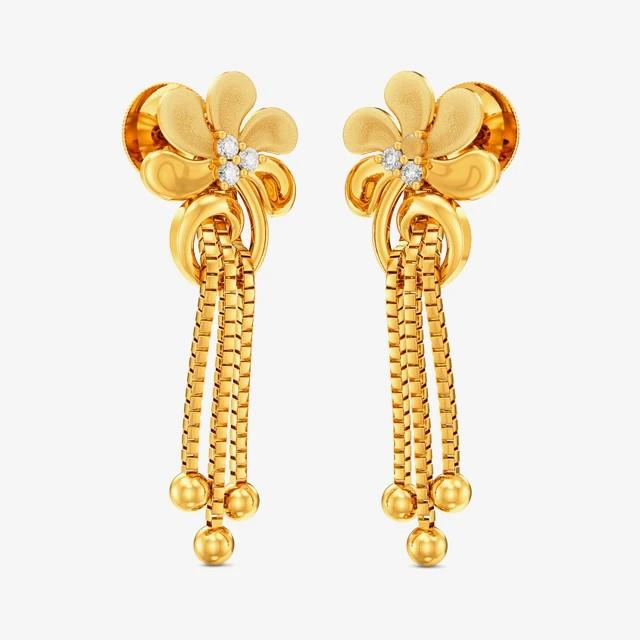missing gem: (403, 137, 424, 157)
